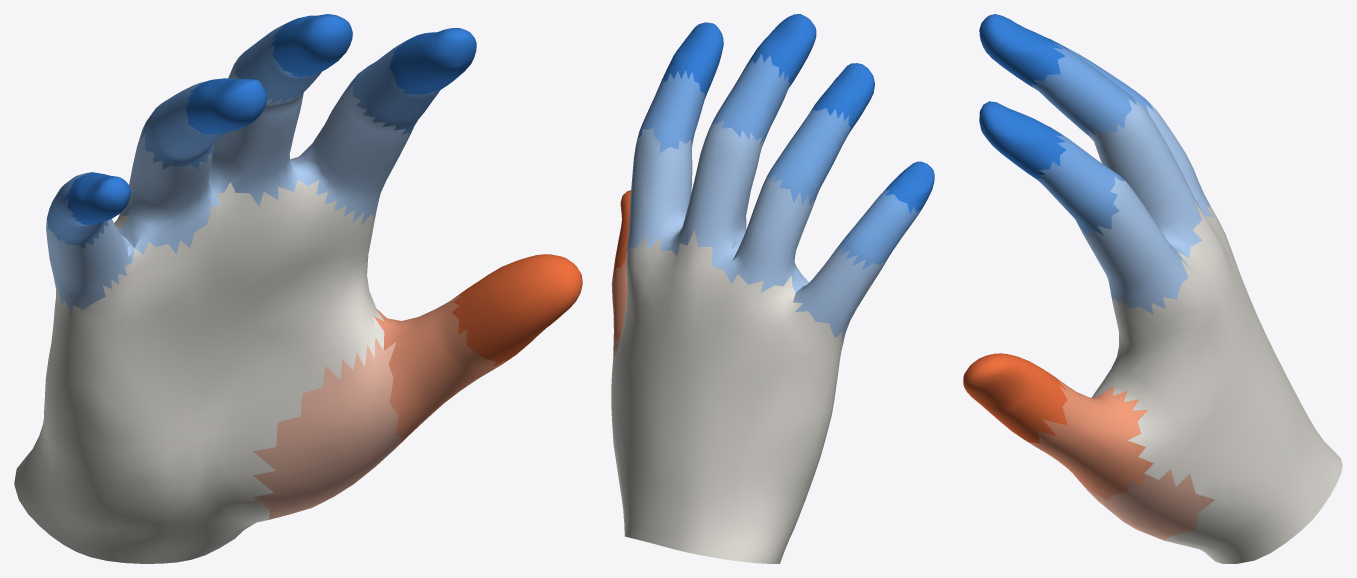
The model's file is gripper_human.glb.
3 renders of one model, left to right at view 1: azimuth 30°, elevation 25°; view 2: azimuth 150°, elevation 25°; view 3: azimuth 270°, elevation 25°, orthographic. The views are drawn at different scales.
Visible parts, largest first — view 1: hand; view 2: hand; view 3: hand.
Part boxes in pixels (<box>): hand: <box>14,14,582,563</box>; hand: <box>611,14,934,563</box>; hand: <box>963,14,1342,563</box>.
Bounding box in the file's own units: 0.129 × 0.1721 × 0.1108.
